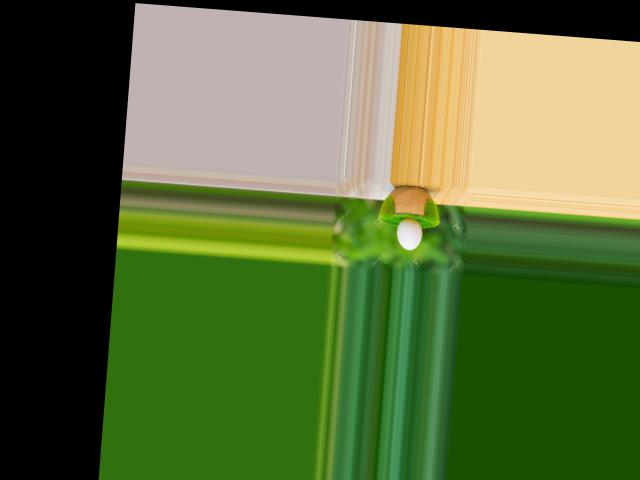egg: (394, 216, 422, 250)
